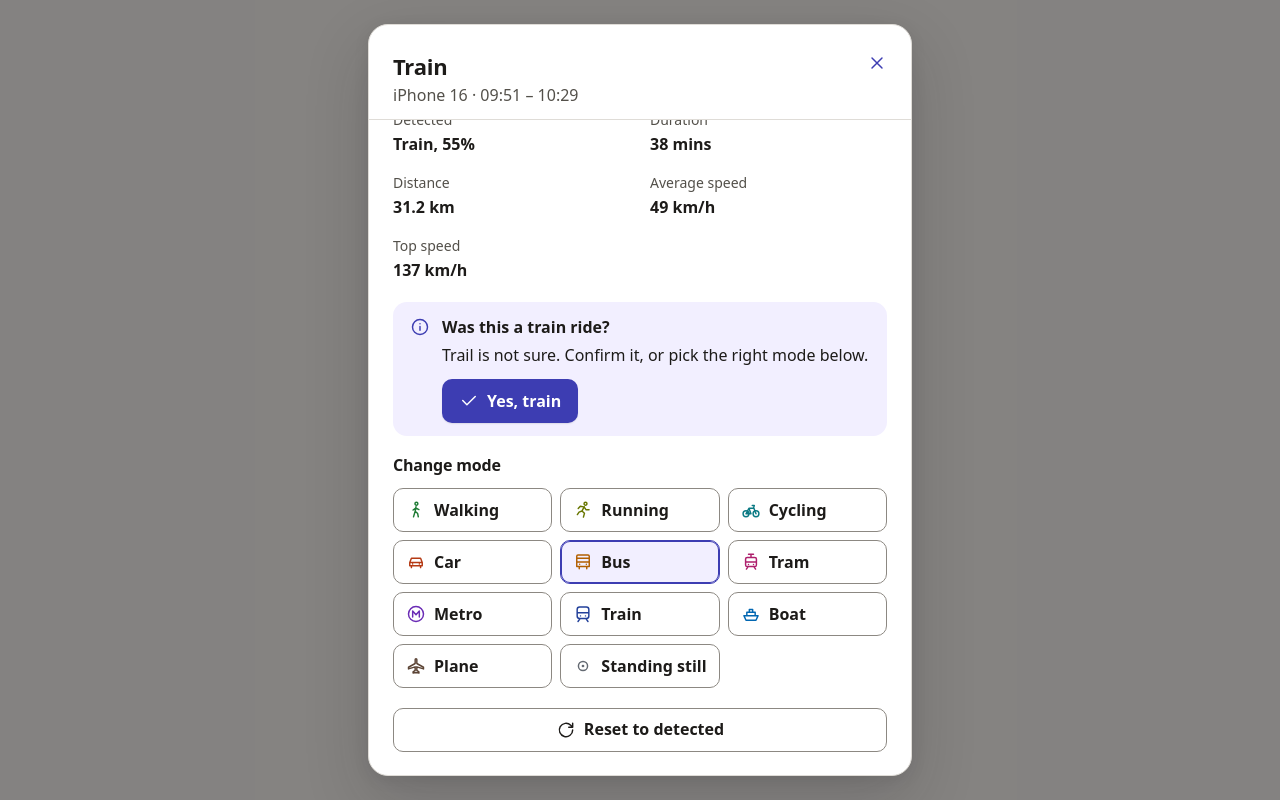
Test: SegmentDialog and a move that is still going on › says a correction is still waiting for processing, beside a retry that saves it
(page scrolled)
# The fake clock leaves timers alone, so the click and the answer run on real ones.
Click the button "Reset to detected".
click(640, 730)  # box [393,708,887,752]
(page scrolled)
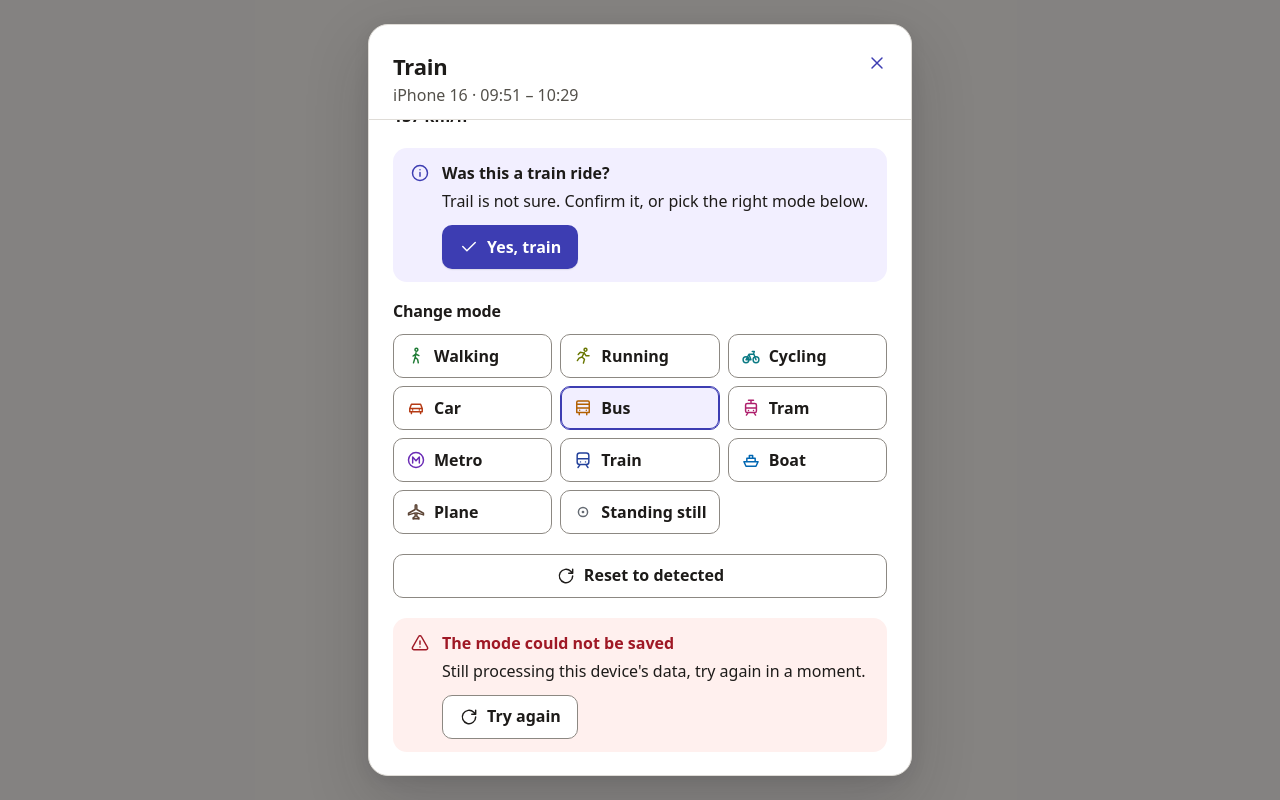
Check: the message shows "Still processing this device's data, try again in a moment.", box [442,660,866,682]
Click the button "Try again".
click(510, 717)  # box [442,695,578,739]
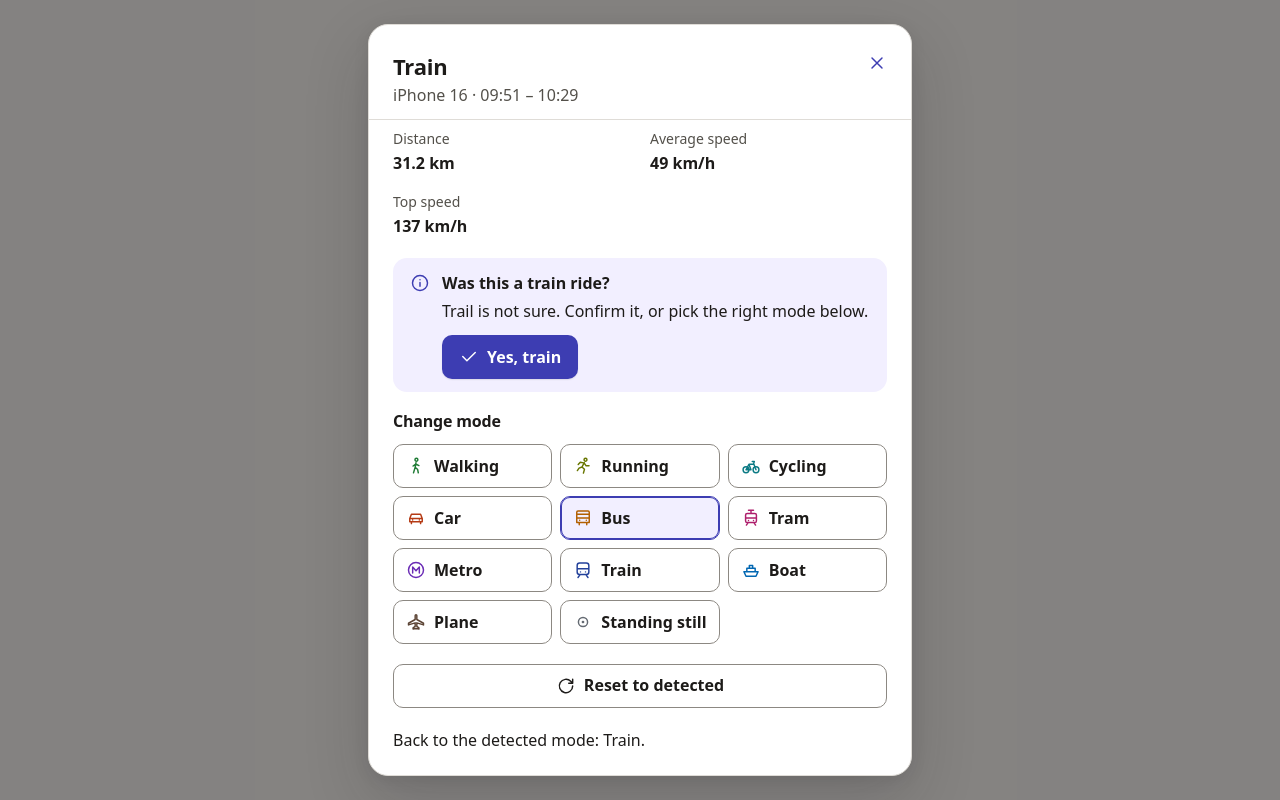
Check: the text "Back to the detected mode: Train." is shown, box [393,729,645,751]
